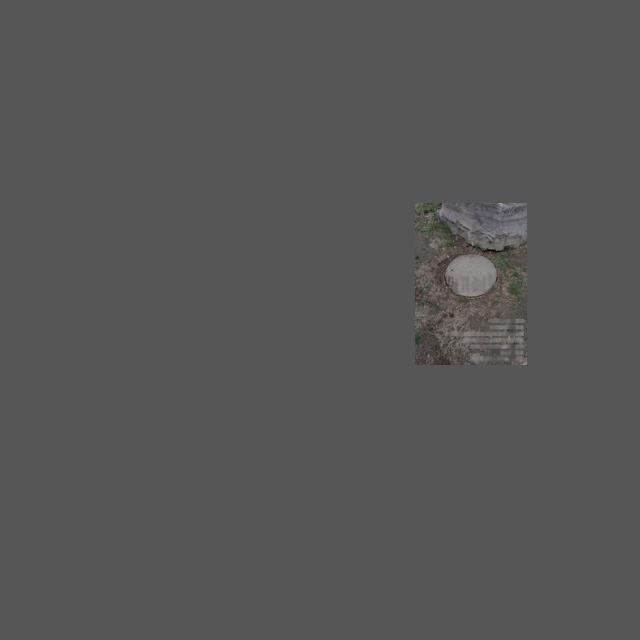good: (445, 253, 497, 299)
